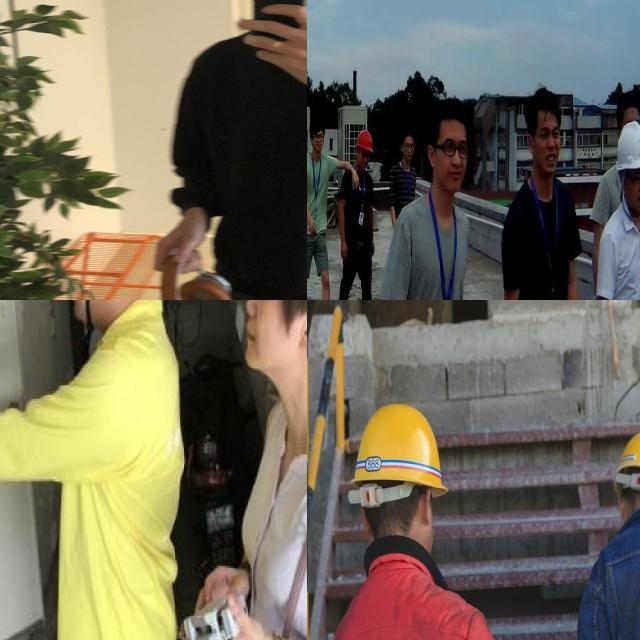No_Ear-Protection: (426, 90, 468, 196), (524, 81, 562, 180), (613, 122, 640, 223), (413, 478, 442, 535), (308, 116, 329, 161), (397, 127, 418, 171), (614, 486, 630, 528)
face_nomask: (244, 300, 284, 372), (64, 300, 83, 320), (72, 300, 86, 322)
hand_noglove: (196, 566, 249, 612), (230, 596, 273, 640)
